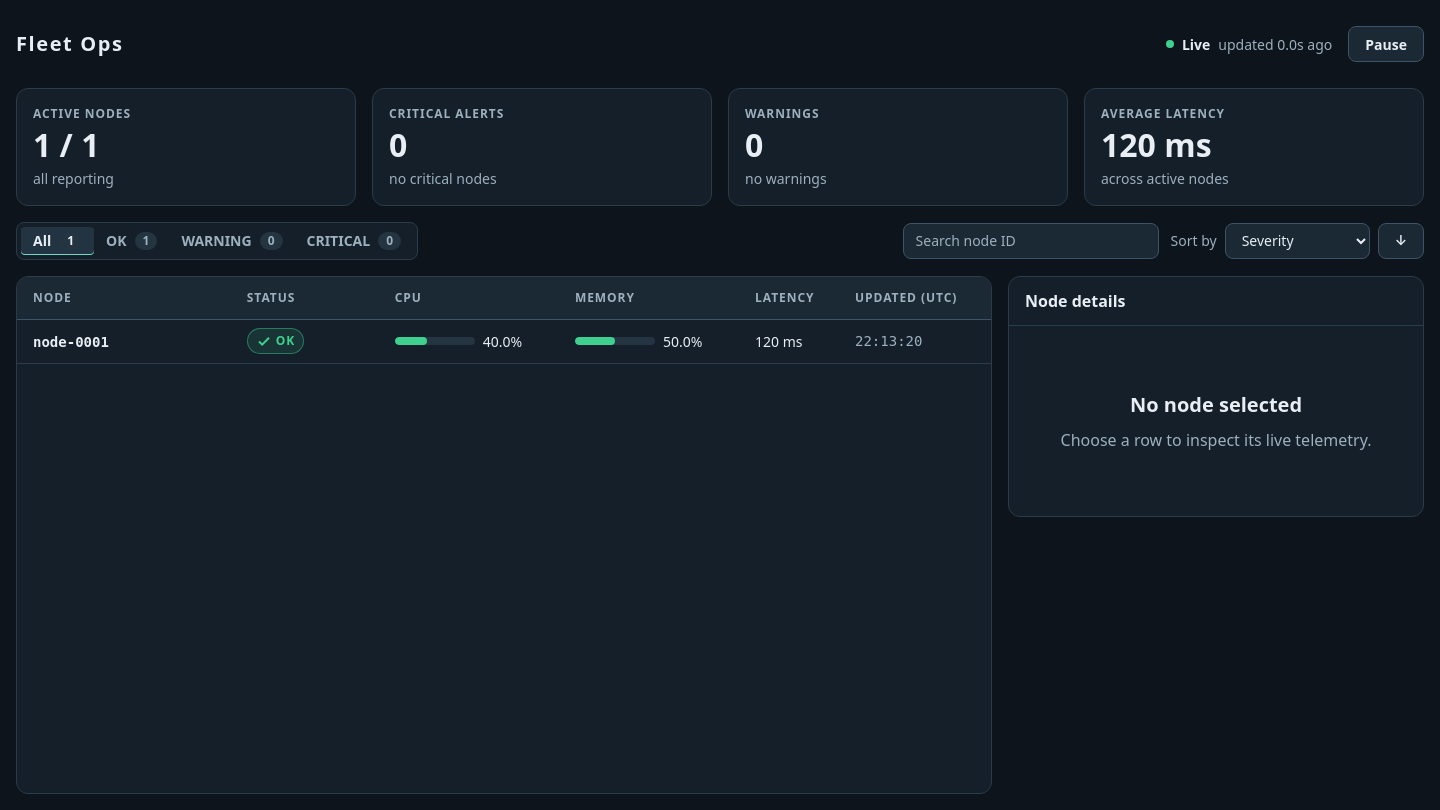
Test case: App › shows the selected node in the detail panel even after the filter hides it
What coordinates should you click on to do the following:
click the button "node-0001"
I would click on:
 (71, 342)
Its box is [33, 334, 109, 350].
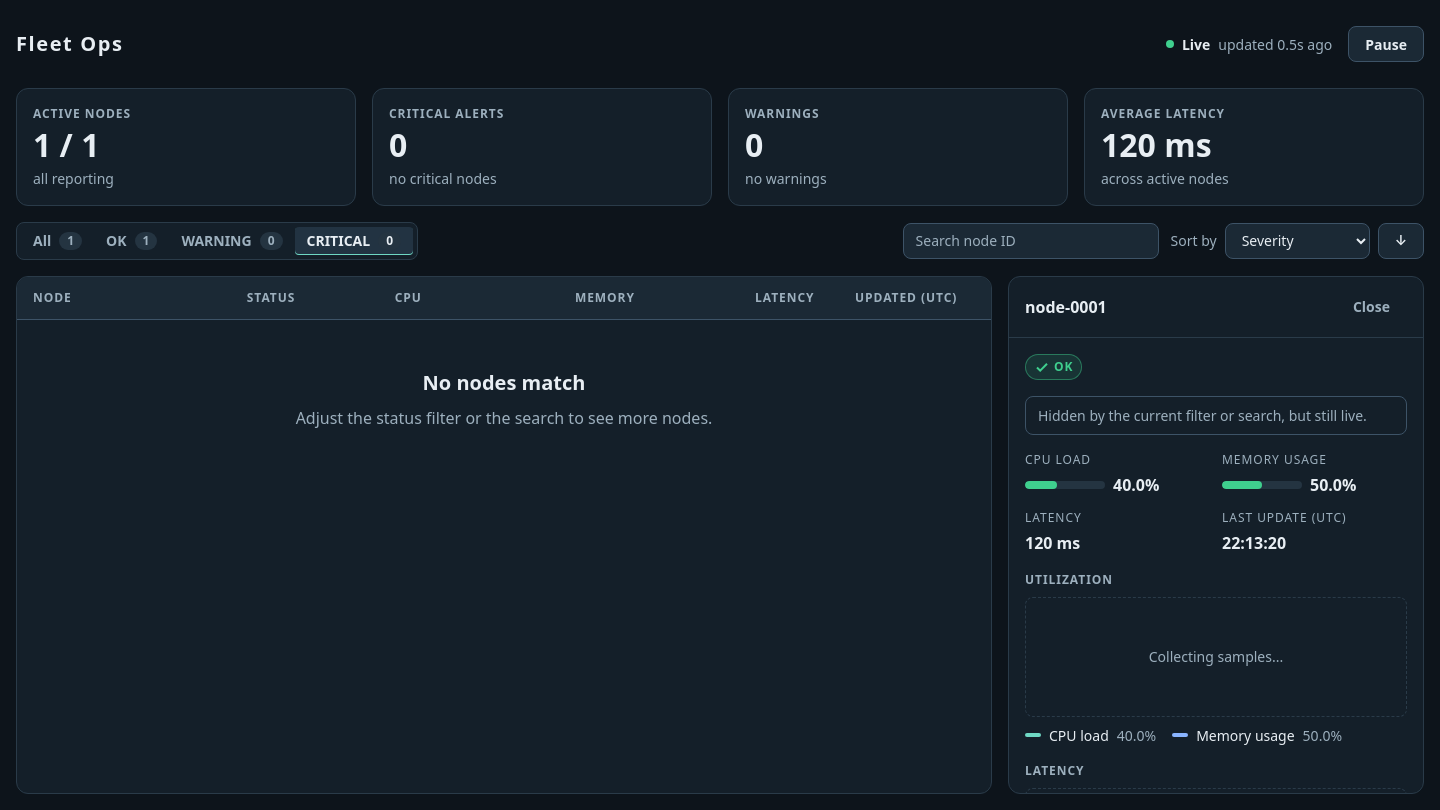
Check: the element with test id "node-detail" shows "Hidden by the current filter", box [1038, 406, 1367, 425]
